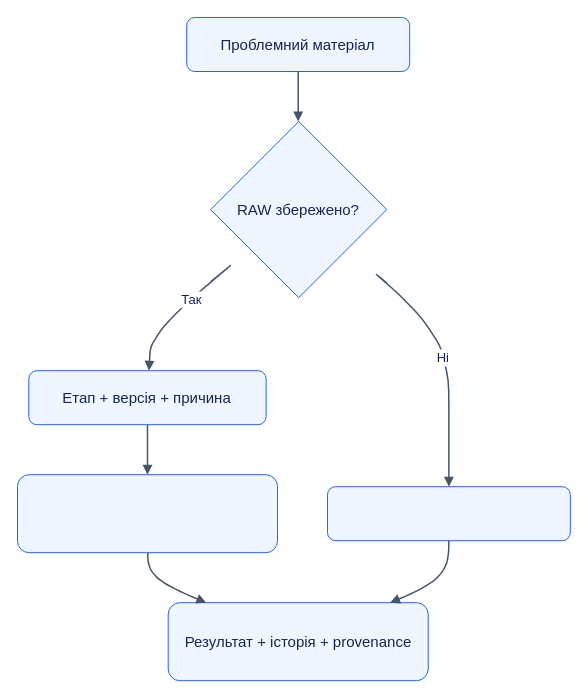
This 588x699 diagram has some shape labels left out. The box of each missing label's shape, as (x1, y1, x2, y2) in pixels:
Reprocess без повторного завантаження джерела: (16, 474, 278, 553)
Повторний збір джерела: (326, 486, 570, 541)
